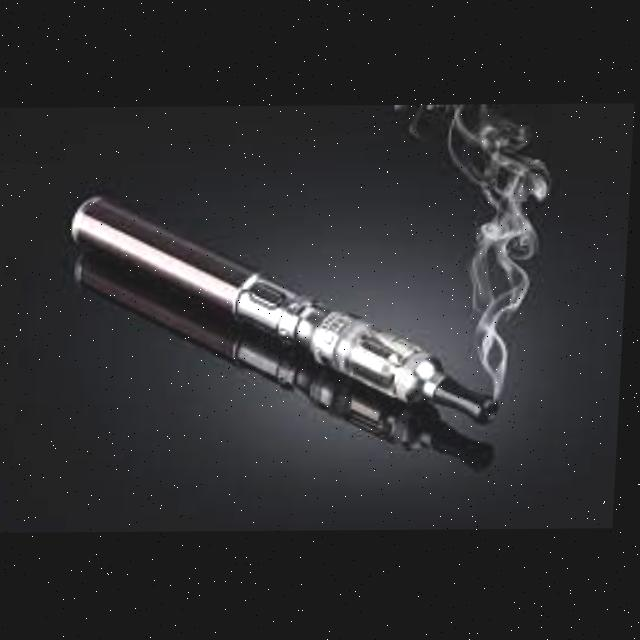vape: (67, 193, 516, 428)
